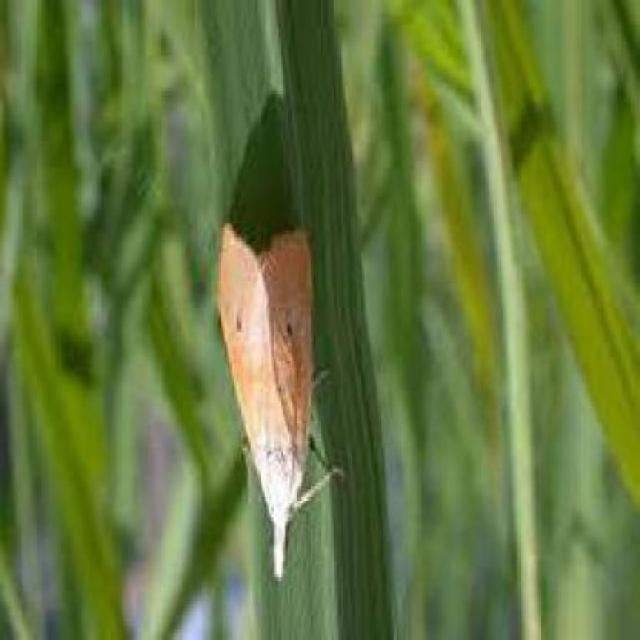stem-borer: (216, 220, 346, 586)
